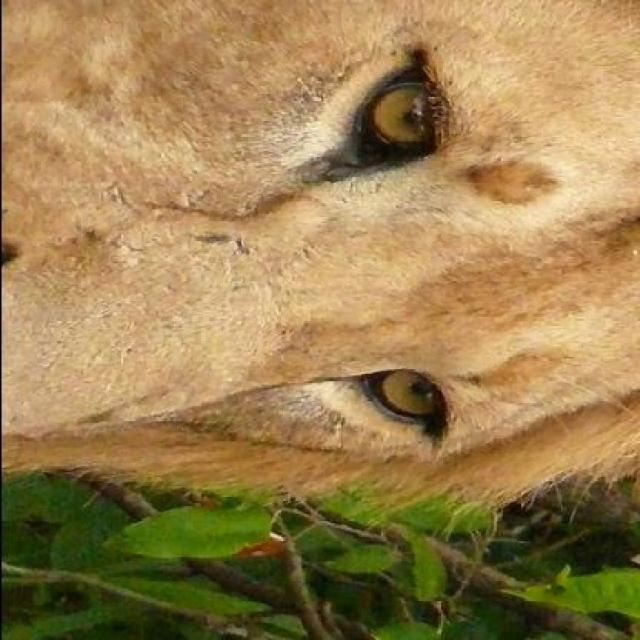Lion: (0, 4, 628, 556)
